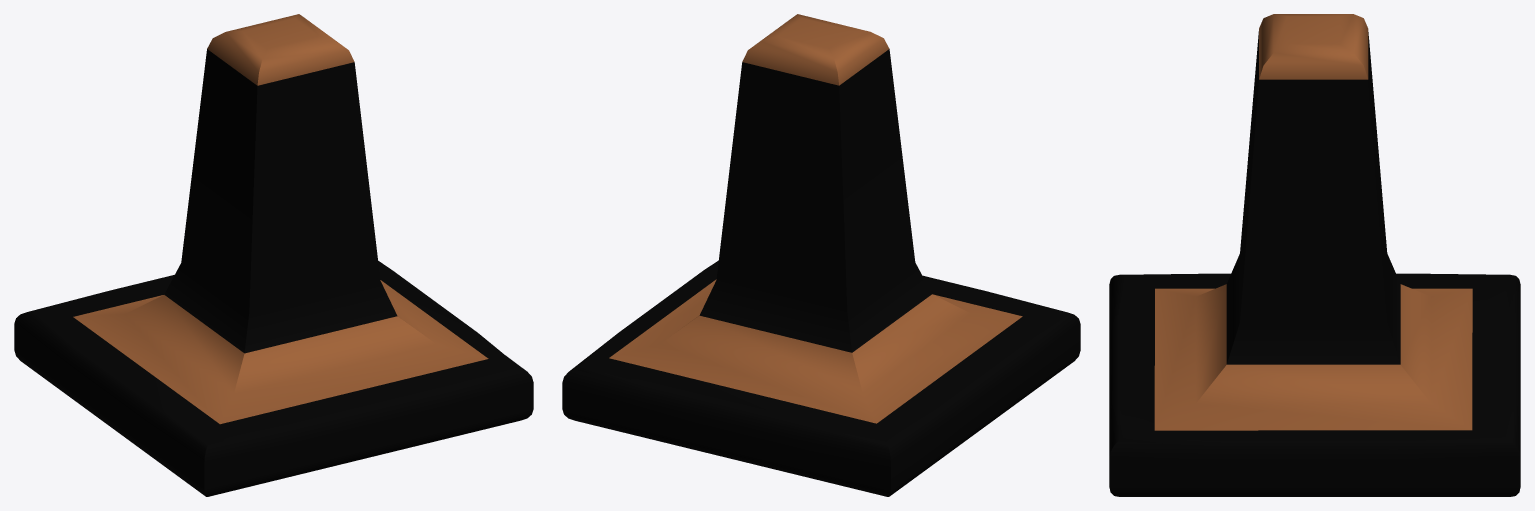
The model's file is Joystick.fbx.
3 renders of one model, left to right at view 1: azimuth 30°, elevation 25°; view 2: azimuth 150°, elevation 25°; view 3: azimuth 270°, elevation 25°, orthographic. The views are drawn at different scales.
Visible parts, largest first — view 1: Joystick:polySurface526polySurface341; view 2: Joystick:polySurface526polySurface341; view 3: Joystick:polySurface526polySurface341.
Part boxes in pixels (bbox=[...]): Joystick:polySurface526polySurface341: bbox=[14, 14, 533, 496]; Joystick:polySurface526polySurface341: bbox=[562, 14, 1080, 496]; Joystick:polySurface526polySurface341: bbox=[1109, 14, 1520, 496].
Size of the model in its own units: 9.01 by 9.39 by 9.01.
